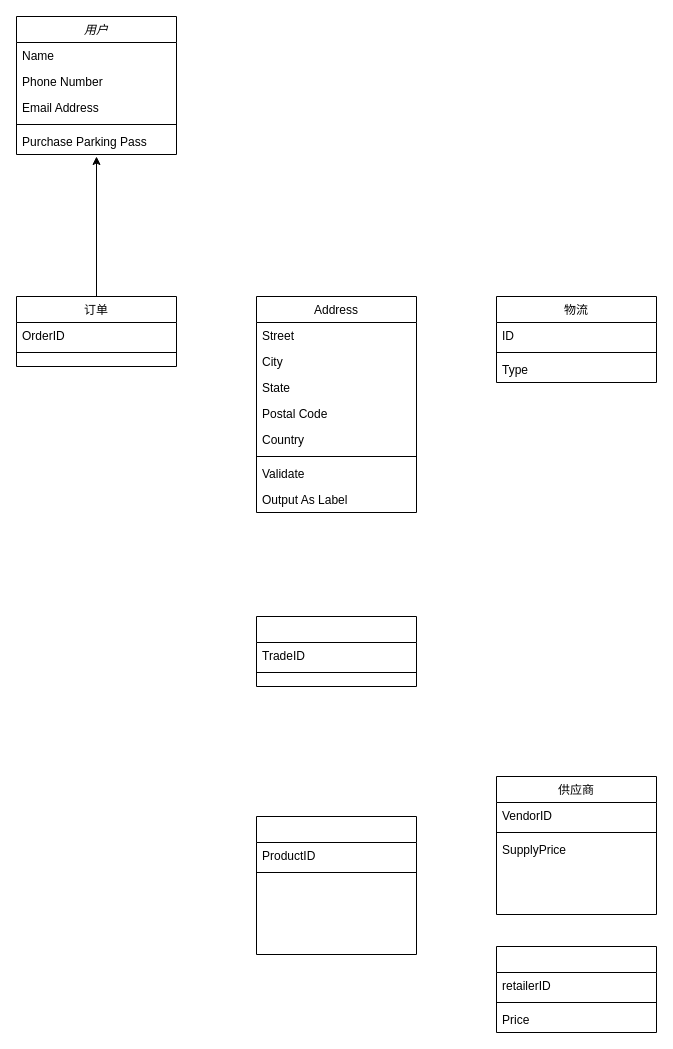
Some shapes in this 673 by 1049 pixel diagram are drawn without their labels. The box of each missing label's shape, as (x1, y1, x2, y2) in pixels:
交易: (256, 616, 416, 686)
商品: (256, 816, 416, 954)
销售商: (496, 946, 656, 1032)
